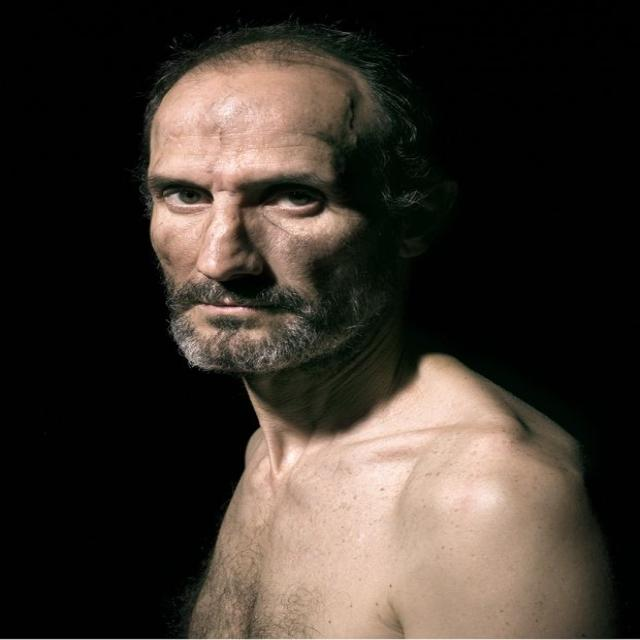front: (116, 76, 413, 378)
